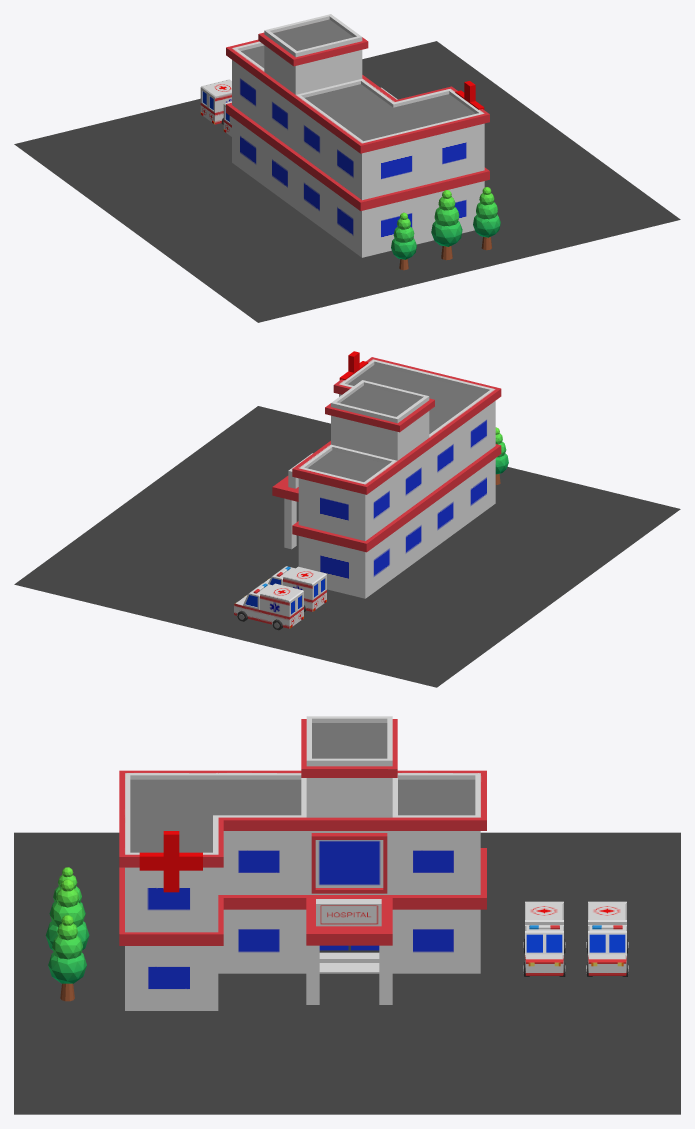
The picture shows the model from 3 angles, top to bottom: view 1: azimuth 30°, elevation 25°; view 2: azimuth 150°, elevation 25°; view 3: azimuth 270°, elevation 25°; orthographic projection. The views are drawn at different scales.
Parts seen in each view (by area): view 1: Ground, Hospital, Tree22.001, Tree22.002, Ambulance 2, Tree22; view 2: Ground, Hospital, Ambulance 2, Ambulance; view 3: Ground, Hospital, Ambulance, Ambulance 2, Tree22.002, Tree22.001.
Boxes of the visible parts, x1,y1,x2,y2 form: Ground: (14,41,680,322); Hospital: (226,14,489,257); Tree22.001: (431,190,462,260); Tree22.002: (473,187,500,250); Ambulance 2: (200,79,231,124); Tree22: (391,212,416,270); Ground: (14,406,680,687); Hospital: (272,351,501,598); Ambulance 2: (234,583,303,630); Ambulance: (264,566,326,611); Ground: (14,832,680,1114); Hospital: (119,716,486,1010); Ambulance: (523,901,565,976); Ambulance 2: (586,901,628,976); Tree22.002: (48,915,86,1001); Tree22.001: (45,879,89,950).
Size of the model in its own units: 1551 by 554 by 1551.
Materials: 4 (4 with a texture image).
